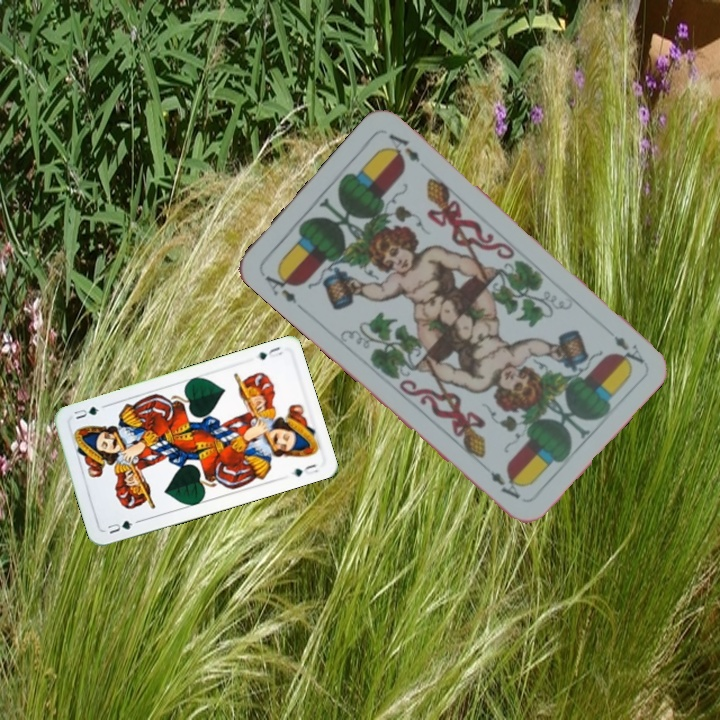EA: (260, 265, 300, 306), (609, 331, 647, 367)
GU: (103, 516, 141, 537), (255, 343, 285, 363)
